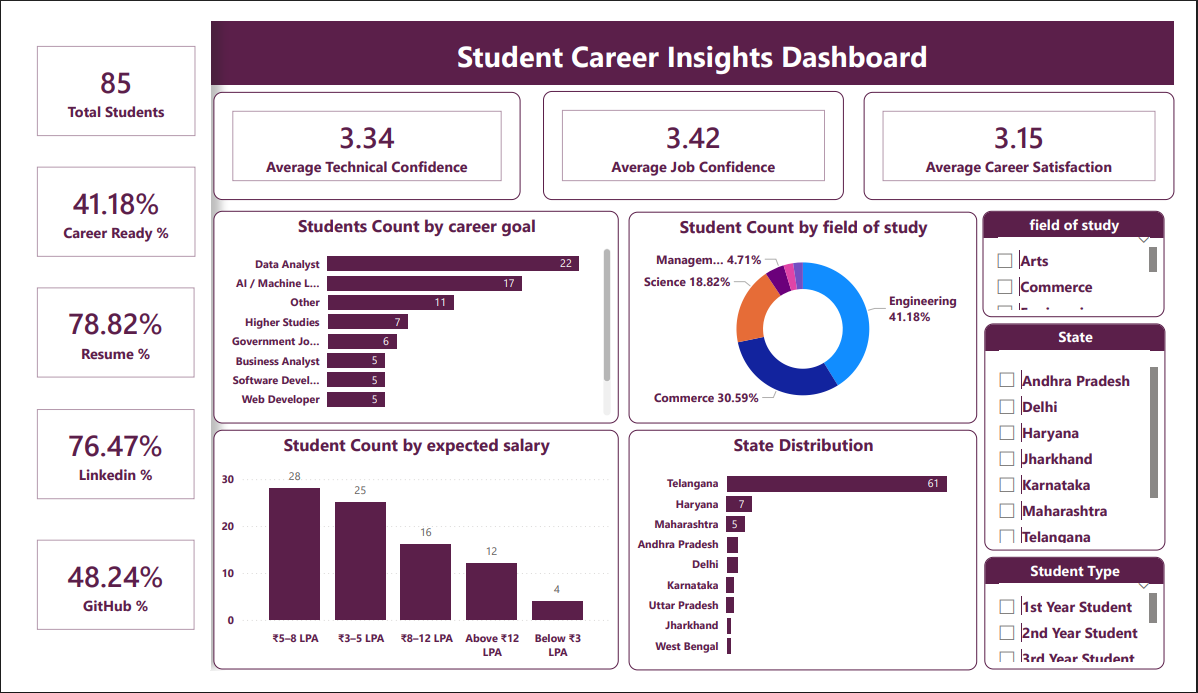

This screenshot's page, from the dashboard's own definition file:
{"tool":"powerbi","page":{"name":"Executive Overview","canvas":[1280,720],"ordinal":0},"visuals":[{"type":"shape","box":[0,0,1280,70],"z":0},{"type":"textbox","box":[209.9,10.2,1070.1,59.8],"z":1000},{"type":"shape","box":[0,0,209.9,720.2],"z":2000},{"type":"cardVisual","fields":{"Data":["Measure_Table.Total Students"]},"box":[0,10.2,209.9,134.1],"z":3000},{"type":"cardVisual","fields":{"Data":["Measure_Table.Career Ready %"]},"box":[0,144.3,209.9,134.1],"z":4000},{"type":"cardVisual","fields":{"Data":["Measure_Table.Resume %"]},"box":[0,278.5,209.9,134.1],"z":5000},{"type":"cardVisual","fields":{"Data":["Measure_Table.Linkedin %"]},"box":[0,412.6,209.9,134.1],"z":6000},{"type":"cardVisual","fields":{"Data":["Measure_Table.GitHub %"]},"box":[0,558.4,209.9,134.1],"z":7000},{"type":"cardVisual","fields":{"Data":["Measure_Table.Average Technical Confidence"]},"box":[213,77.8,340.7,120.4],"z":8000},{"type":"cardVisual","fields":{"Data":["Measure_Table.Average Job Confidence"]},"box":[578.8,77.3,333.8,121],"z":9000},{"type":"cardVisual","fields":{"Data":["Measure_Table.Average Career Satisfaction"]},"box":[935.2,77.8,344.4,120.4],"z":10000},{"type":"clusteredBarChart","title":"Students Count by career goal","fields":{"Category":["Dim_Career.career_goal"],"Y":["Measure_Table.Student Count"]},"box":[212.7,209.9,450.3,236.3],"z":11000},{"type":"donutChart","title":"Student Count by field of study","fields":{"Category":["Dim_Education.field_of_study"],"Y":["Measure_Table.Student Count"]},"box":[674.1,211.3,386.4,234.9],"z":12000},{"type":"clusteredColumnChart","title":"Student Count by expected salary","fields":{"Category":["Dim_Career.expected_salary"],"Y":["Measure_Table.Student Count"]},"box":[212.7,453.1,450.3,265.5],"z":13000},{"type":"clusteredBarChart","title":"State Distribution","fields":{"Category":["Dim_Education.state"],"Y":["Measure_Table.Student Count"]},"box":[674.1,453.1,386.4,266.9],"z":14000},{"type":"slicer","title":"field of study","fields":{"Values":["Dim_Education.field_of_study"]},"box":[1067.5,209.9,201.5,118.1],"z":15000},{"type":"slicer","title":"State","fields":{"Values":["Dim_Education.state"]},"box":[1068.9,335,201.5,251.6],"z":16000},{"type":"slicer","title":"Student Type","fields":{"Values":["Fact_StudentSurvey.student_type"]},"box":[1068.9,593.5,200.2,125.1],"z":17000}]}

Visuals, with their boxes in screenshot pixels (x1, y1, x2, y2), scaled from the page's 1280x720 canvas onto the 1198x693 screenshot:
shape: [0,0,1197,67]
textbox: [196,10,1197,67]
shape: [0,0,196,692]
cardVisual - Measure_Table.Total Students: [0,10,196,139]
cardVisual - Measure_Table.Career Ready %: [0,139,196,268]
cardVisual - Measure_Table.Resume %: [0,268,196,397]
cardVisual - Measure_Table.Linkedin %: [0,397,196,526]
cardVisual - Measure_Table.GitHub %: [0,537,196,667]
cardVisual - Measure_Table.Average Technical Confidence: [199,75,518,191]
cardVisual - Measure_Table.Average Job Confidence: [542,74,854,191]
cardVisual - Measure_Table.Average Career Satisfaction: [875,75,1197,191]
"Students Count by career goal" clusteredBarChart: [199,202,621,429]
"Student Count by field of study" donutChart: [631,203,993,429]
"Student Count by expected salary" clusteredColumnChart: [199,436,621,692]
"State Distribution" clusteredBarChart: [631,436,993,692]
"field of study" slicer: [999,202,1188,316]
"State" slicer: [1000,322,1189,565]
"Student Type" slicer: [1000,571,1188,692]
